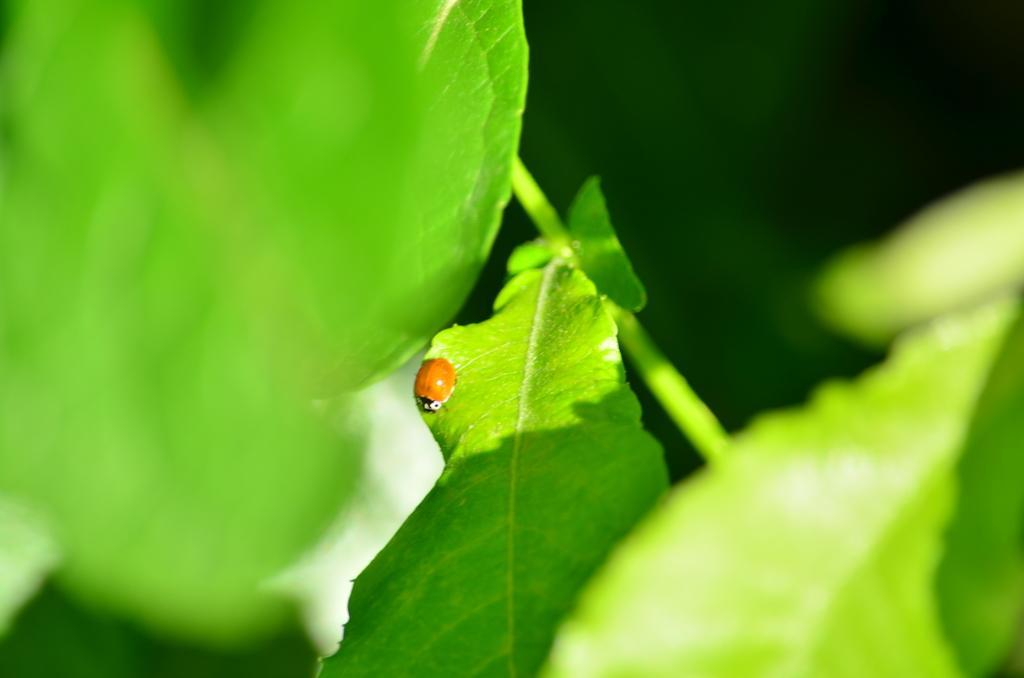ladybug: (414, 355, 462, 416)
